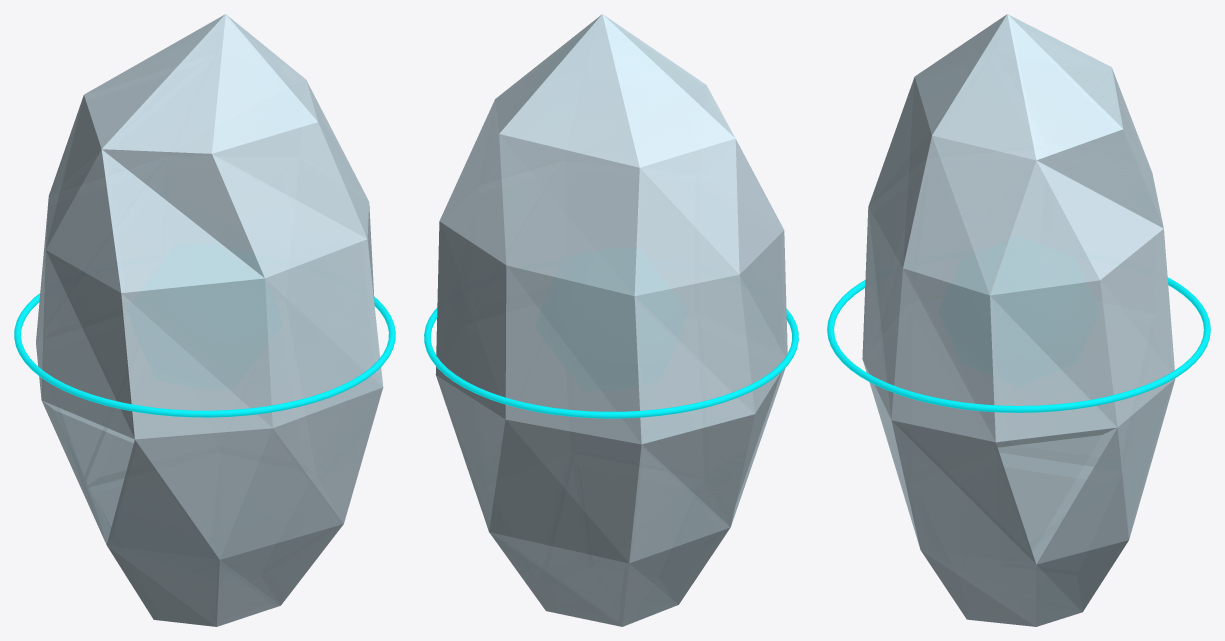
File: CrystalArchive.glb
3 views of the same model, side by side, from view 1: azimuth 30°, elevation 25°; view 2: azimuth 150°, elevation 25°; view 3: azimuth 270°, elevation 25° (orthographic). The views are drawn at different scales.
Visible parts, largest first — view 1: Crystal_Main, Crystal_Shard_12, Crystal_Shard_06, Crystal_Shard_16, Crystal_Shard_02, Crystal_Shard_17, Crystal_Shard_20, Crystal_Shard_11, Crystal_Shard_07, Energy_Ring, Crystal_Shard_05, Crystal_Shard_15 (+5 smaller); view 2: Crystal_Main, Crystal_Shard_10, Crystal_Shard_01, Crystal_Shard_15, Crystal_Shard_02, Crystal_Shard_05, Crystal_Shard_11, Crystal_Shard_04, Energy_Ring, Crystal_Shard_14, Crystal_Shard_20, Crystal_Shard_19 (+3 smaller); view 3: Crystal_Main, Crystal_Shard_08, Crystal_Shard_13, Crystal_Shard_03, Crystal_Shard_01, Crystal_Shard_07, Crystal_Shard_14, Crystal_Shard_18, Crystal_Shard_04, Crystal_Shard_20, Energy_Ring, Crystal_Shard_12 (+5 smaller).
Boxes of the visible parts, x1,y1,x2,y2 form: Crystal_Main: [36, 14, 382, 626]; Crystal_Shard_12: [126, 240, 383, 425]; Crystal_Shard_06: [46, 149, 264, 292]; Crystal_Shard_16: [41, 400, 269, 559]; Crystal_Shard_02: [98, 14, 317, 153]; Crystal_Shard_17: [220, 387, 383, 559]; Crystal_Shard_20: [92, 497, 338, 626]; Crystal_Shard_11: [43, 250, 134, 437]; Crystal_Shard_07: [214, 122, 366, 278]; Energy_Ring: [14, 293, 395, 417]; Crystal_Shard_05: [45, 97, 100, 249]; Crystal_Shard_15: [42, 401, 106, 541]; Crystal_Main: [436, 14, 787, 626]; Crystal_Shard_10: [511, 268, 753, 444]; Crystal_Shard_01: [497, 14, 638, 165]; Crystal_Shard_15: [629, 416, 753, 562]; Crystal_Shard_02: [602, 14, 733, 165]; Crystal_Shard_05: [508, 140, 738, 294]; Crystal_Shard_11: [739, 231, 787, 411]; Crystal_Shard_04: [462, 103, 626, 293]; Energy_Ring: [424, 308, 798, 418]; Crystal_Shard_14: [437, 377, 516, 537]; Crystal_Shard_20: [629, 528, 729, 604]; Crystal_Shard_19: [489, 532, 678, 626]; Crystal_Main: [862, 14, 1174, 626]; Crystal_Shard_08: [905, 269, 1117, 441]; Crystal_Shard_13: [892, 421, 1116, 564]; Crystal_Shard_03: [905, 138, 1099, 295]; Crystal_Shard_01: [933, 14, 1123, 158]; Crystal_Shard_07: [868, 77, 991, 440]; Crystal_Shard_14: [1036, 379, 1175, 564]; Crystal_Shard_18: [921, 540, 1128, 625]; Crystal_Shard_04: [1039, 129, 1163, 244]; Crystal_Shard_20: [1000, 453, 1093, 542]; Energy_Ring: [827, 277, 1210, 412]; Crystal_Shard_12: [863, 207, 901, 415].
Bounding box in the file's own units: 1.32 × 2.25 × 1.32.
